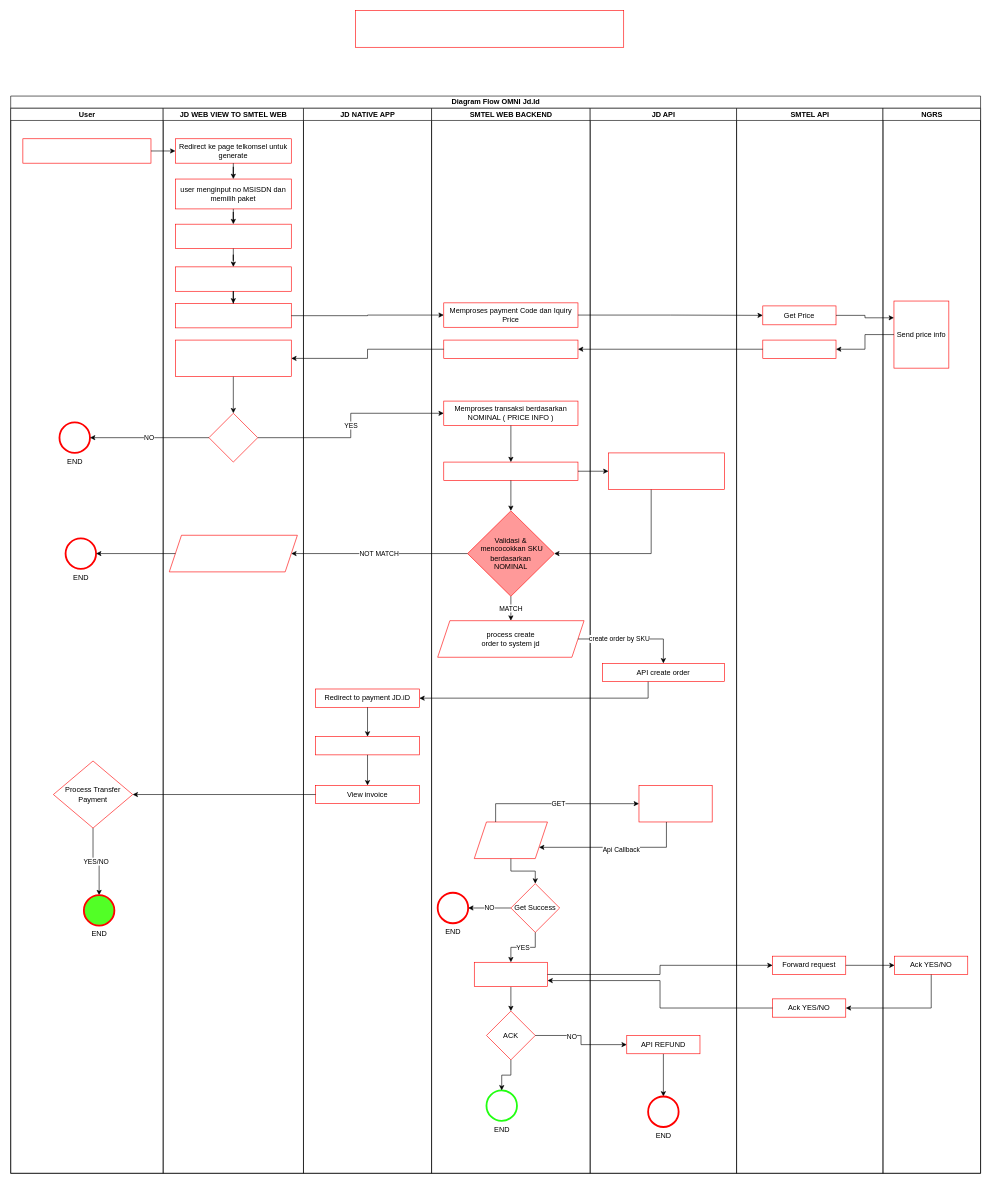
This 991x1184 diagram has some shape labels left out. Each missing label, with the centre of its shape:
Activation request: (510,974)
API cek payment: (675,803)
API GET SKU spesific OMNI Category: (666,471)
DIAGRAM ALUR ORDER OMNI DI JD.ID: (489,28)
INFO: transaksi tidak bisa dilanjutkan: (233,553)
input pyment code dan klik ORDER: (233,315)
Listen API cek payment: (510,840)
Preview Product dan price info: (233,358)
Process Paymet: (233,437)
Receive price info: (510,348)
Redirect to page input pyament code smtel: (233,278)
Request API GET SKU JD.ID: (510,470)
Send Price: (799,348)
User mendapatkan Payment Code: (233,236)
User Mengakses Aplikasi Jd dan Klik Banner ( tombol OMNI): (86,150)
View paymnet Method: (367,745)
